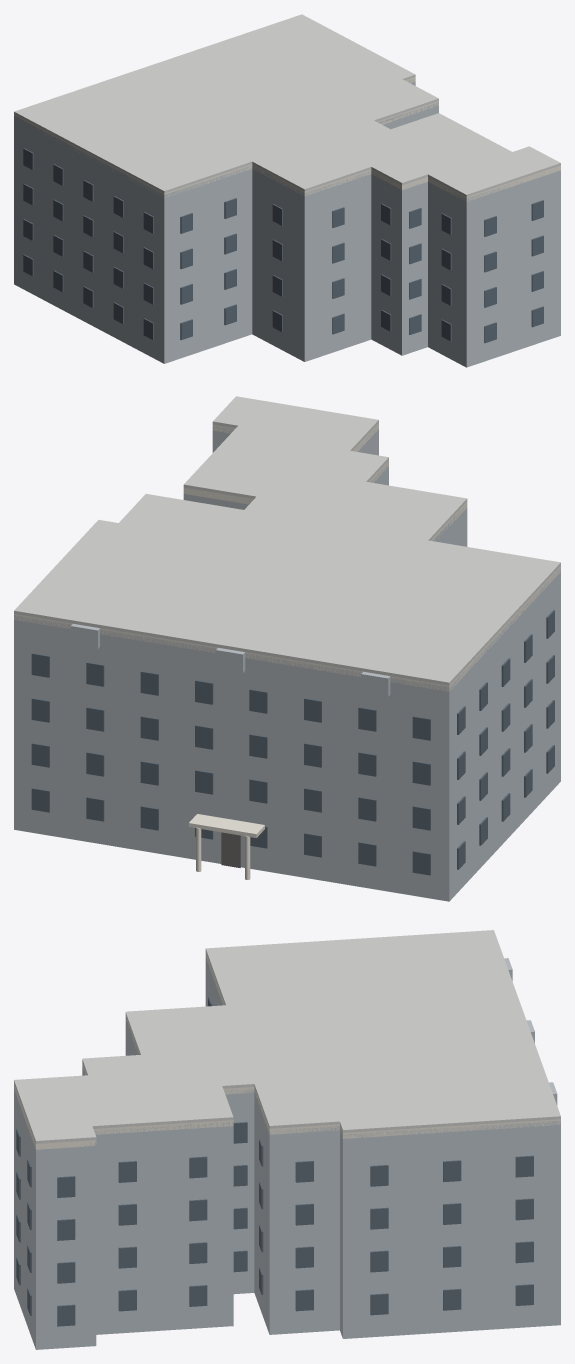
Rendered from d_629_purchase.glb.
The picture shows the model from 3 angles, top to bottom: view 1: azimuth 30°, elevation 25°; view 2: azimuth 150°, elevation 25°; view 3: azimuth 270°, elevation 25°; orthographic projection. The views are drawn at different scales.
Visible parts, largest first — view 1: mass, roofcap, cornice; view 2: mass, roofcap, cornice, port629, door629, dorm629_1, dorm629_2, dorm629_0; view 3: mass, roofcap, cornice.
Boxes of the visible parts, x1,y1,x2,y2 form: mass: (14, 79, 560, 367); roofcap: (14, 14, 560, 197); cornice: (14, 77, 560, 201); mass: (14, 426, 560, 901); roofcap: (14, 396, 560, 685); cornice: (14, 423, 560, 691); port629: (188, 814, 264, 837); door629: (221, 832, 240, 867); dorm629_1: (216, 647, 245, 672); dorm629_2: (361, 671, 390, 696); dorm629_0: (71, 624, 99, 648); mass: (14, 954, 560, 1349); roofcap: (14, 930, 560, 1143); cornice: (14, 952, 560, 1149).
Size of the model in its own units: 35.91 by 16.58 by 39.34.
